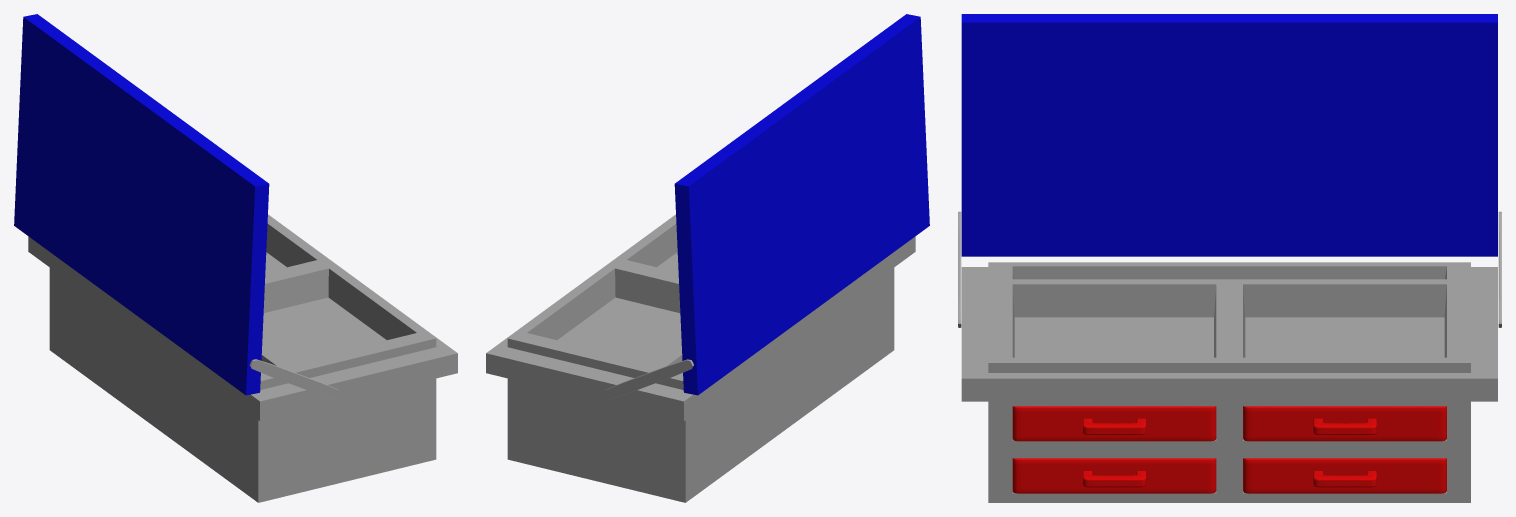
Rendered from workKit.fbx.
The picture shows the model from 3 angles, left to right: view 1: azimuth 30°, elevation 25°; view 2: azimuth 150°, elevation 25°; view 3: azimuth 270°, elevation 25°; orthographic projection. The views are drawn at different scales.
Parts seen in each view (by area): view 1: pCube34; view 2: pCube34; view 3: pCube34.
Boxes of the visible parts, x1,y1,x2,y2 form: pCube34: (14, 14, 457, 502); pCube34: (486, 14, 929, 502); pCube34: (958, 14, 1501, 502).
Size of the model in its own units: 3.6 by 5.17 by 6.7.
